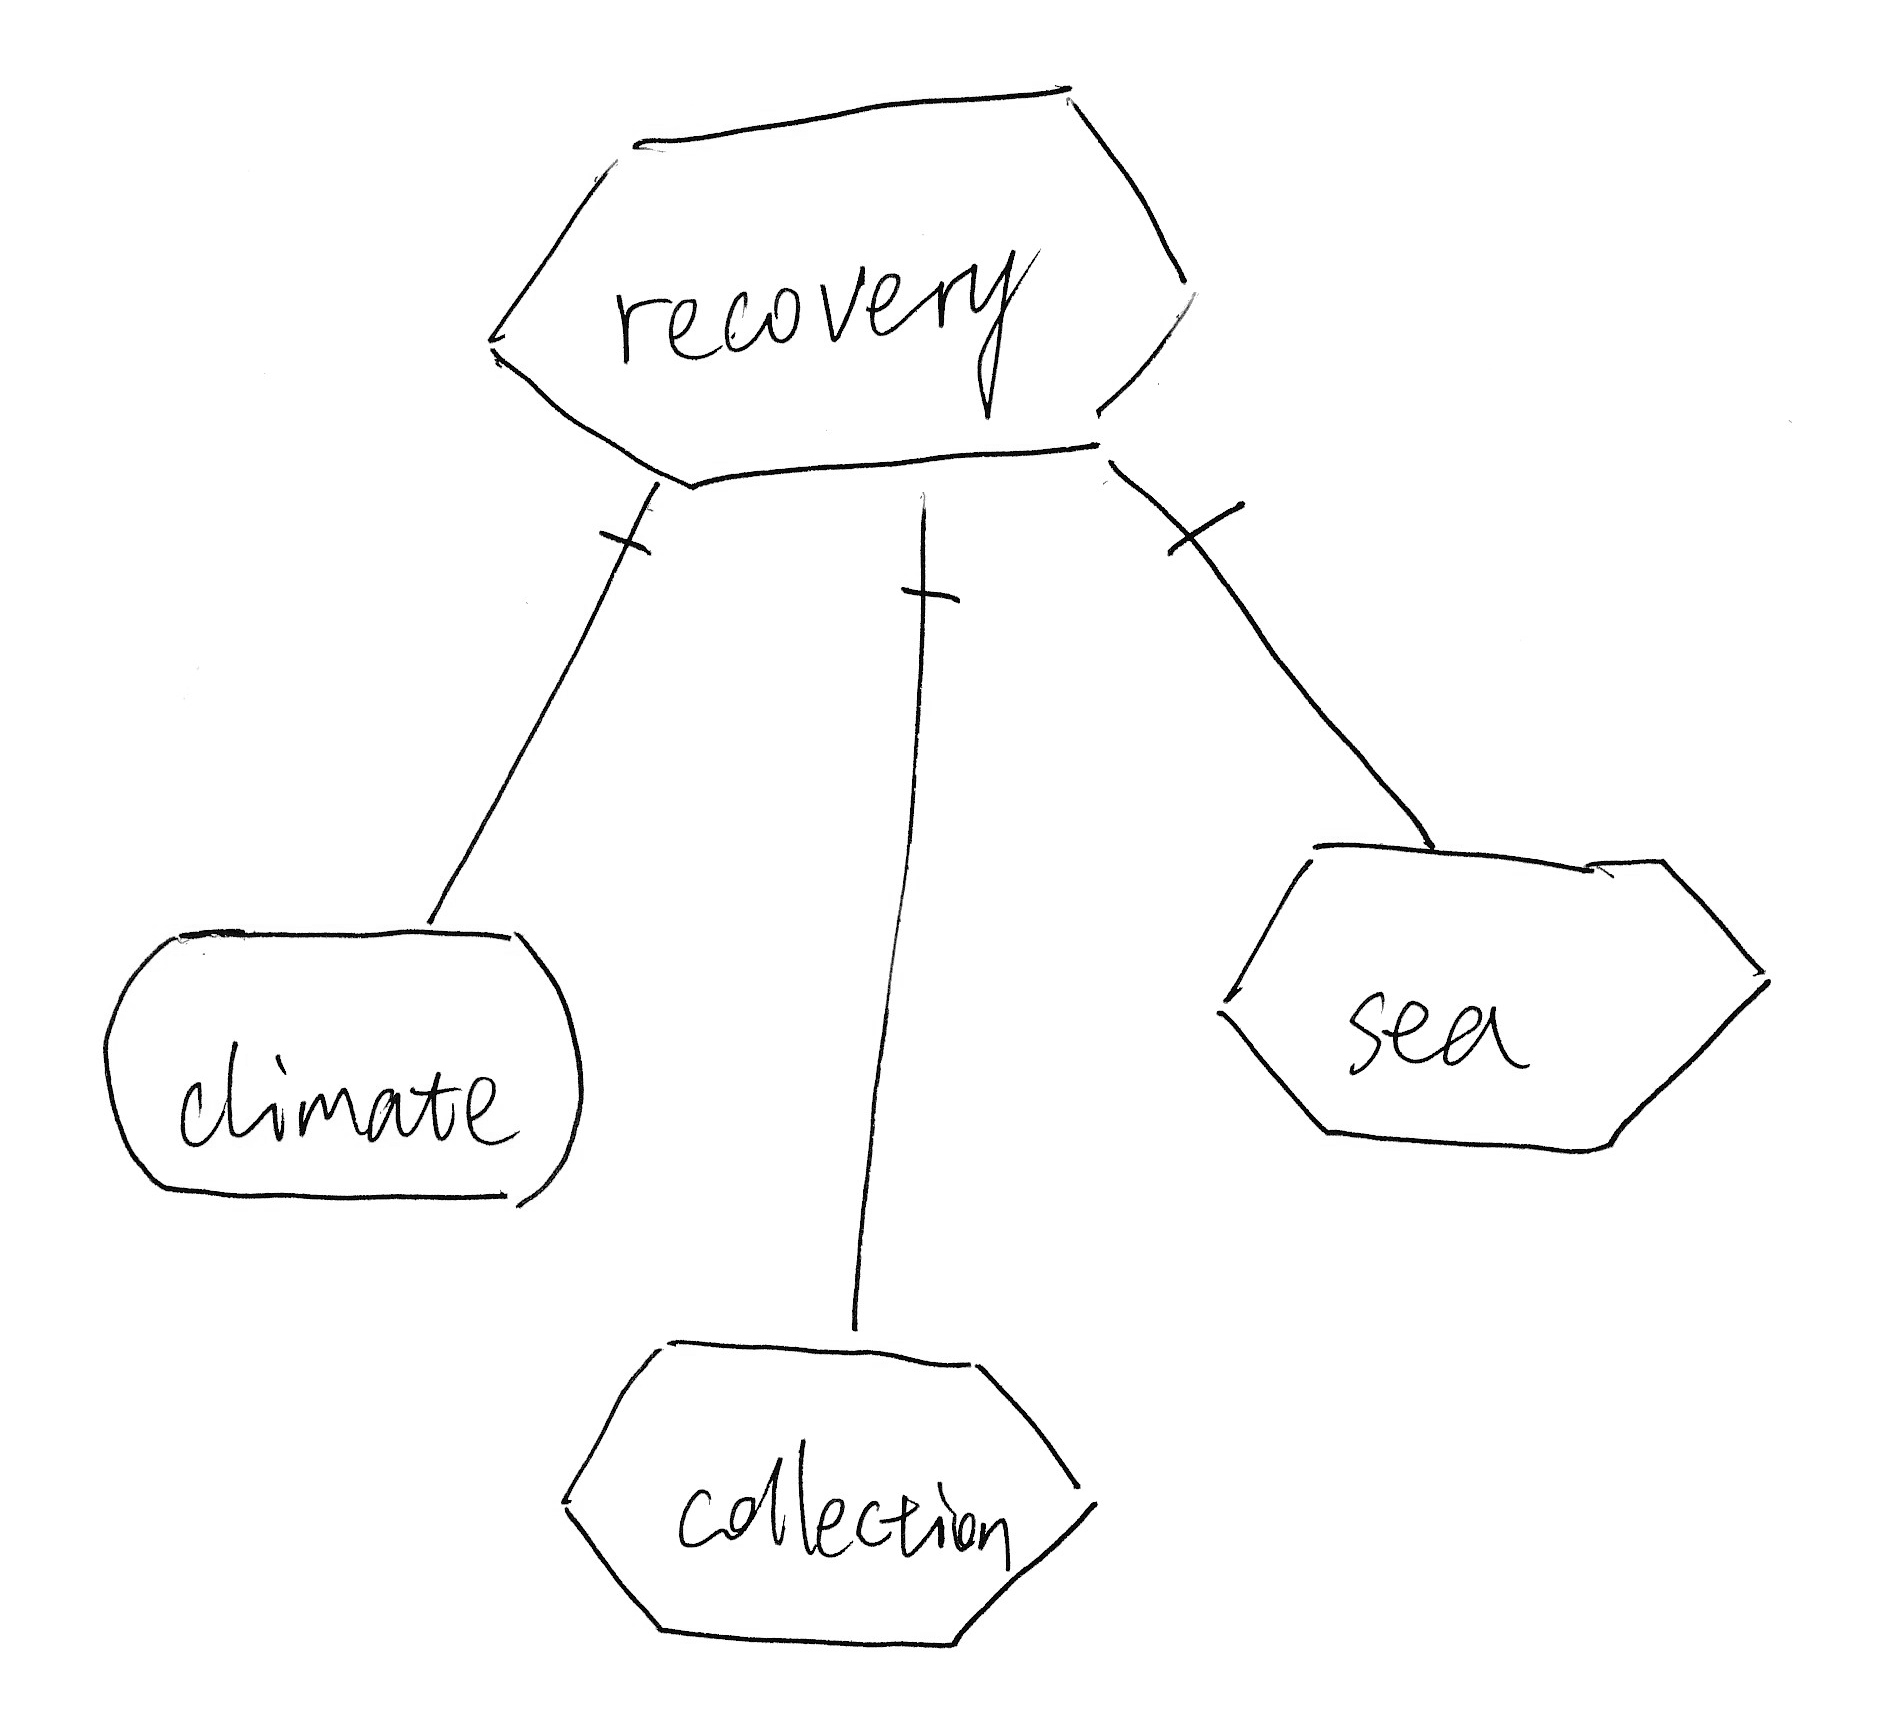and: (1108, 465, 1278, 588), (873, 520, 980, 653), (569, 488, 673, 596)
goal: (89, 913, 599, 1223)
task: (455, 62, 1224, 502), (1188, 816, 1794, 1171), (533, 1317, 1113, 1663)
